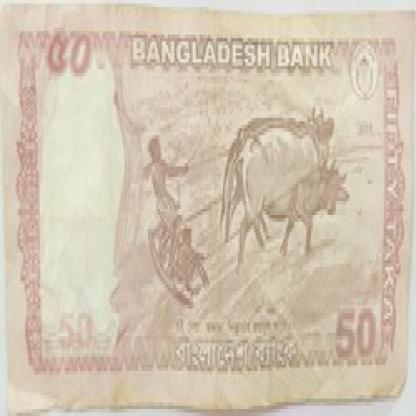Fifty taka: (321, 301, 386, 384), (45, 28, 118, 83)
